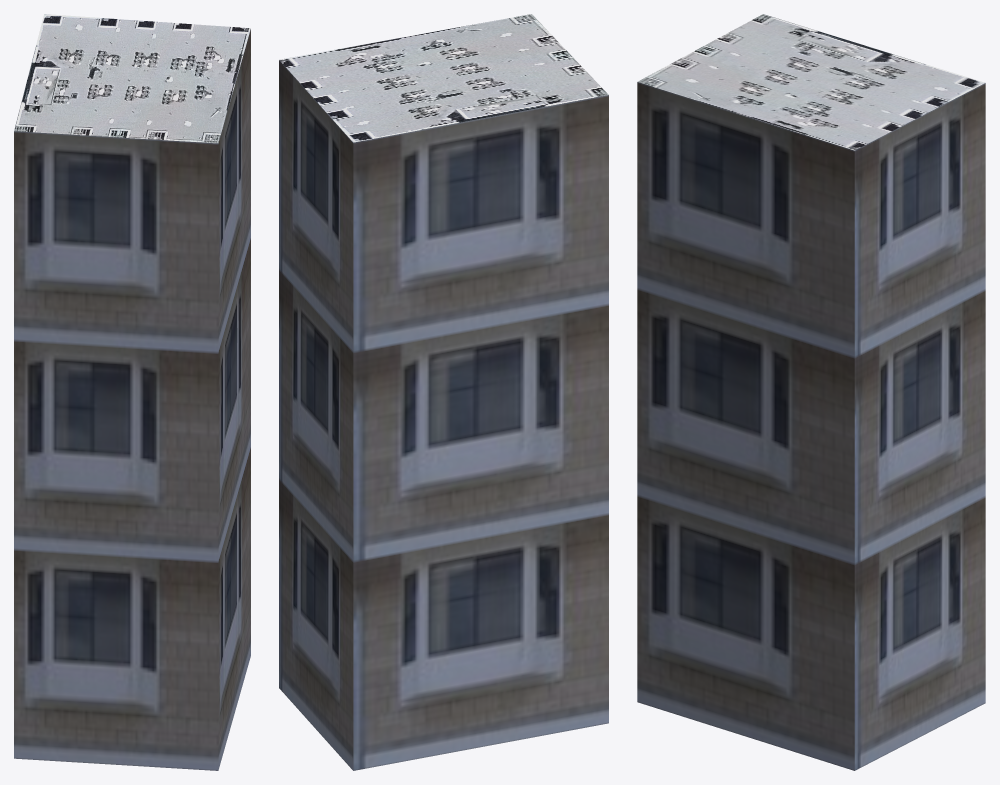
File: ResTex__3263.fbx
3 views of the same model, side by side, from view 1: azimuth 30°, elevation 25°; view 2: azimuth 150°, elevation 25°; view 3: azimuth 270°, elevation 25° (orthographic).
Parts seen in each view (by area): view 1: CityEngineMaterial_3_m, CityEngineMaterial_m; view 2: CityEngineMaterial_3_m, CityEngineMaterial_m; view 3: CityEngineMaterial_3_m, CityEngineMaterial_m.
Boxes of the visible parts, left/top/right/bottom form: CityEngineMaterial_3_m: left=14, top=29, right=250, bottom=770; CityEngineMaterial_m: left=14, top=14, right=250, bottom=143; CityEngineMaterial_3_m: left=279, top=60, right=608, bottom=770; CityEngineMaterial_m: left=279, top=14, right=608, bottom=142; CityEngineMaterial_3_m: left=637, top=82, right=985, bottom=770; CityEngineMaterial_m: left=637, top=14, right=985, bottom=150.
Bounding box in the file's own units: 4.25 × 9 × 4.58.
2 materials, 2 textured.
